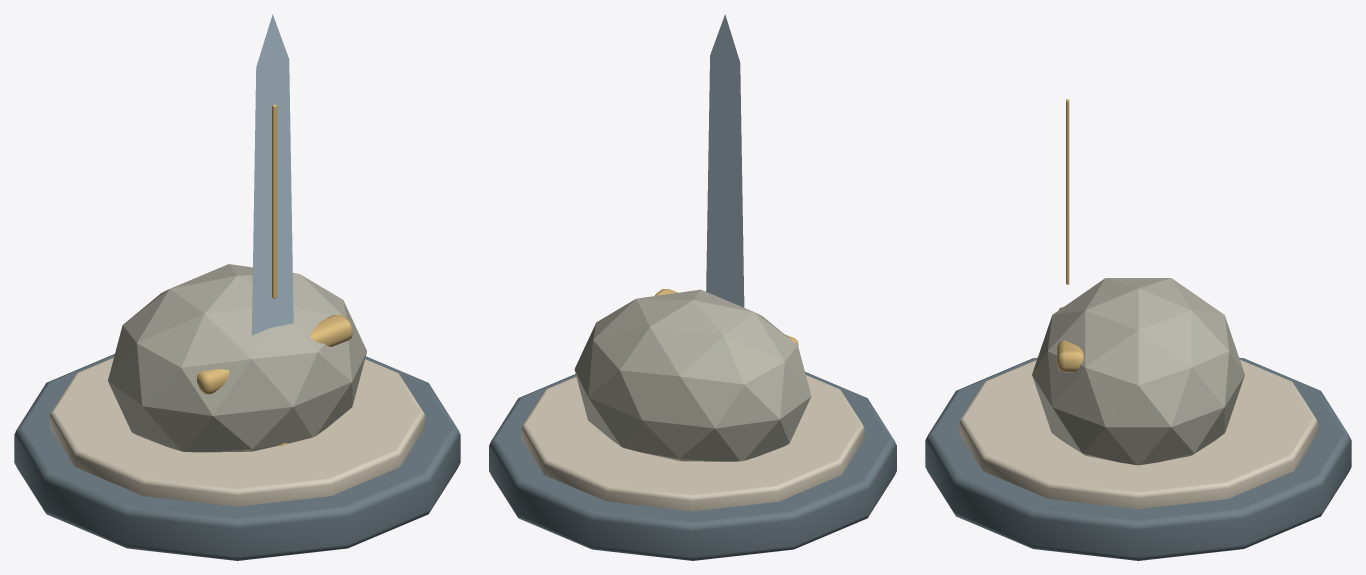
The model's file is SM_SwordMonument_01.fbx.
3 views of the same model, side by side, from view 1: azimuth 30°, elevation 25°; view 2: azimuth 150°, elevation 25°; view 3: azimuth 270°, elevation 25° (orthographic). The views are drawn at different scales.
Parts seen in each view (by area): view 1: SM_SwordMonument_01; view 2: SM_SwordMonument_01; view 3: SM_SwordMonument_01.
Boxes of the visible parts, x1,y1,x2,y2 form: SM_SwordMonument_01: (14, 14, 460, 560); SM_SwordMonument_01: (489, 14, 896, 560); SM_SwordMonument_01: (925, 99, 1351, 560).
Bounding box in the file's own units: 3.04 × 3.62 × 3.04.
